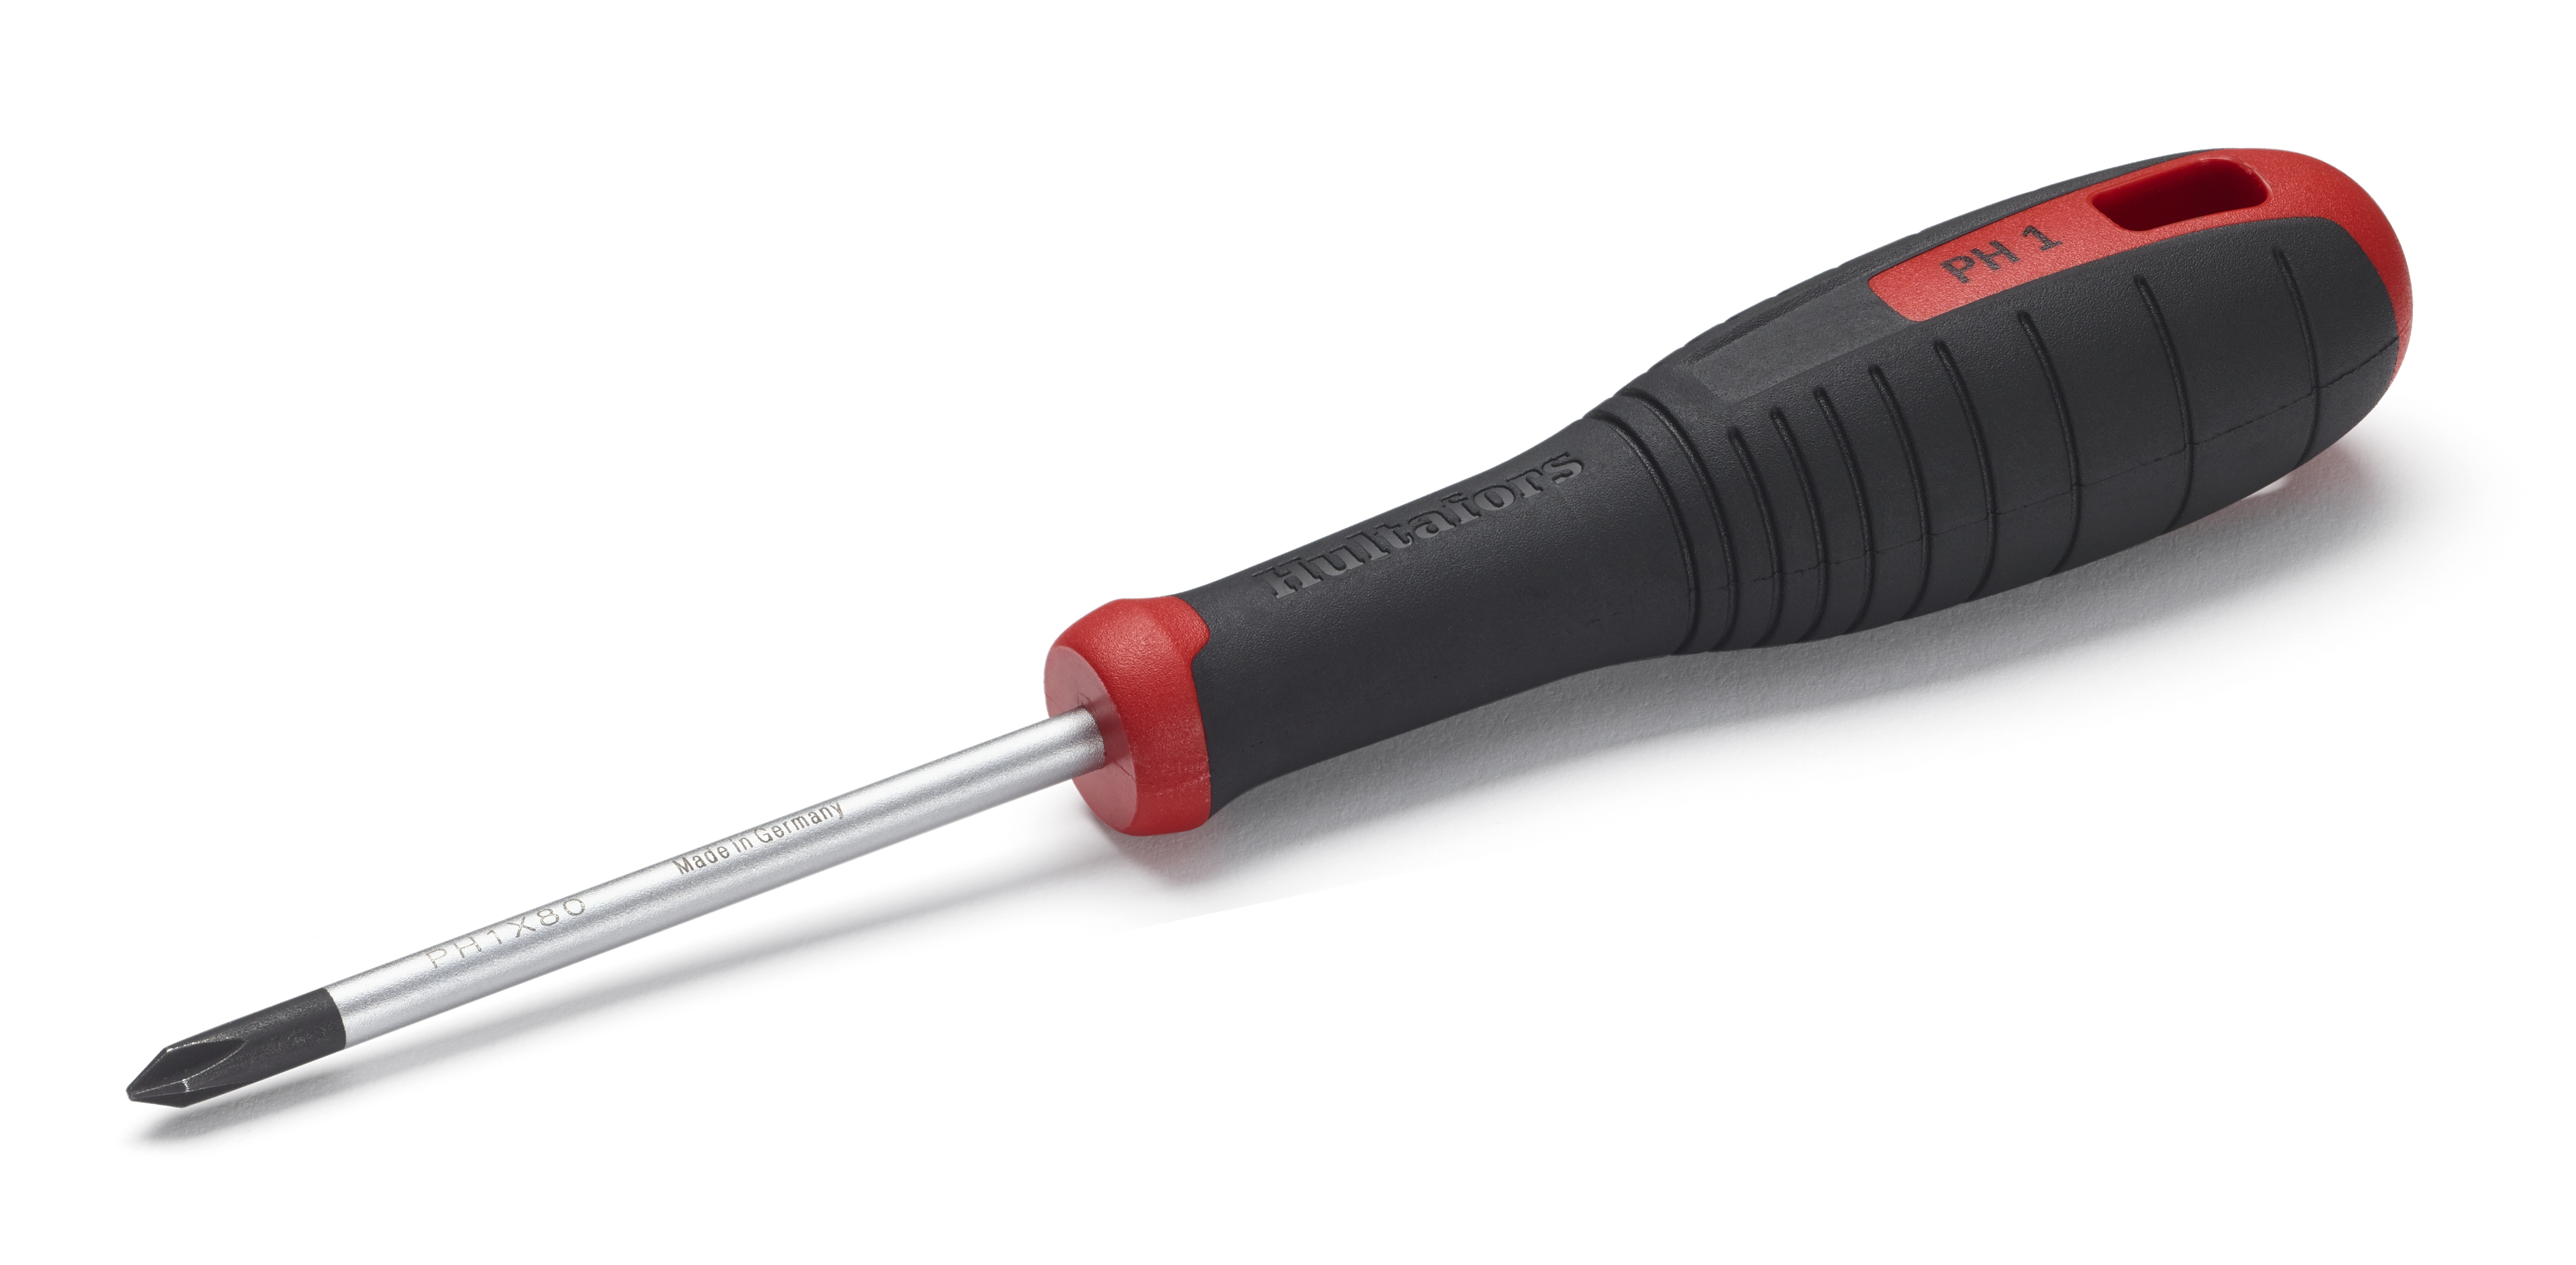screwdriver: (118, 140, 2417, 1120)
